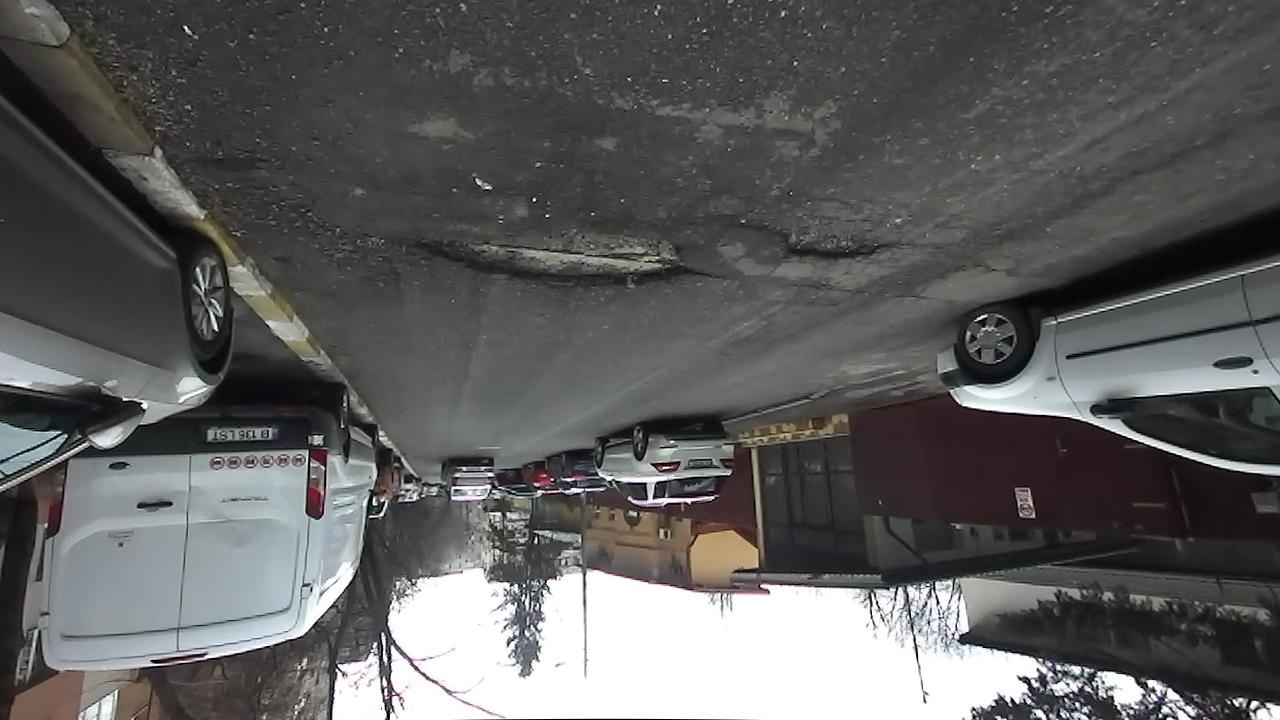pothole: (407, 227, 704, 295), (734, 215, 895, 266)
